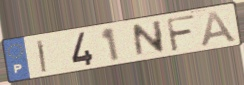1: (100, 26, 121, 63)
4: (69, 30, 95, 68)
A: (200, 10, 240, 49)
F: (164, 14, 197, 53)
I: (36, 38, 49, 74)
N: (131, 18, 167, 59)
